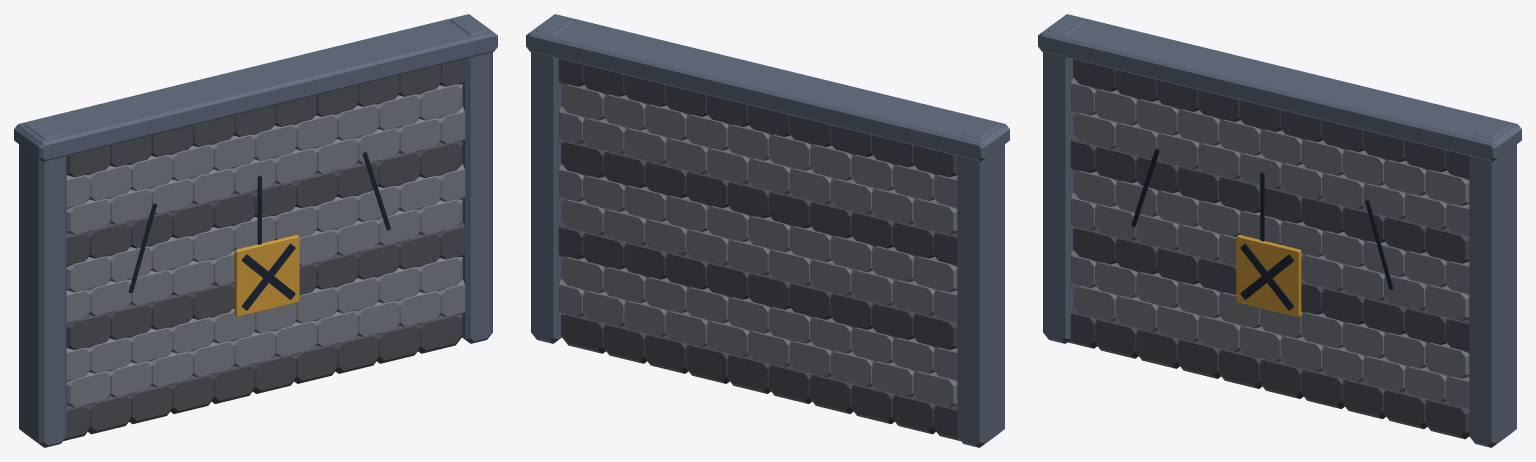
Rendered from shared_wall_destructible.glb.
3 views of the same model, side by side, from view 1: azimuth 30°, elevation 25°; view 2: azimuth 150°, elevation 25°; view 3: azimuth 330°, elevation 25° (orthographic).
Parts seen in each view (by area): view 1: wall_cap, wall_col-1, wall_col1, wall_key, wall_block_0_9, wall_block_0_8, wall_block_0_6, wall_block_0_7, wall_block_0_2, wall_block_0_1, wall_block_0_3, wall_block_0_4 (+92 smaller); view 2: wall_cap, wall_col-1, wall_col1, wall_block_0_9, wall_block_0_8, wall_block_0_6, wall_block_0_7, wall_block_0_2, wall_block_0_1, wall_block_0_3, wall_block_0_4, wall_block_0_5 (+91 smaller); view 3: wall_cap, wall_col1, wall_col-1, wall_key, wall_block_0_9, wall_block_0_3, wall_block_0_1, wall_block_0_2, wall_block_0_8, wall_block_0_5, wall_block_0_7, wall_block_0_6 (+92 smaller).
Boxes of the visible parts, x1,y1,x2,y2 form: wall_cap: [14, 14, 497, 161]; wall_col-1: [19, 120, 66, 447]; wall_col1: [450, 15, 492, 343]; wall_key: [234, 235, 299, 316]; wall_block_0_9: [418, 314, 462, 353]; wall_block_0_8: [376, 324, 420, 363]; wall_block_0_6: [294, 344, 337, 383]; wall_block_0_7: [335, 334, 378, 373]; wall_block_0_2: [129, 385, 172, 424]; wall_block_0_1: [88, 395, 131, 434]; wall_block_0_3: [170, 375, 213, 413]; wall_block_0_4: [211, 365, 255, 403]; wall_cap: [526, 14, 1009, 161]; wall_col-1: [957, 120, 1004, 447]; wall_col1: [531, 15, 573, 343]; wall_block_0_9: [561, 314, 605, 353]; wall_block_0_8: [603, 324, 647, 363]; wall_block_0_6: [686, 344, 729, 383]; wall_block_0_7: [645, 334, 688, 373]; wall_block_0_2: [851, 385, 894, 424]; wall_block_0_1: [892, 395, 935, 434]; wall_block_0_3: [810, 375, 853, 413]; wall_block_0_4: [768, 365, 812, 403]; wall_block_0_5: [727, 355, 770, 393]; wall_cap: [1038, 14, 1521, 161]; wall_col1: [1469, 120, 1516, 447]; wall_col-1: [1043, 15, 1085, 343]; wall_key: [1236, 235, 1301, 316]; wall_block_0_9: [1425, 400, 1469, 439]; wall_block_0_3: [1177, 339, 1221, 378]; wall_block_0_1: [1095, 319, 1138, 358]; wall_block_0_2: [1136, 329, 1179, 368]; wall_block_0_8: [1384, 390, 1427, 429]; wall_block_0_5: [1260, 360, 1303, 398]; wall_block_0_7: [1342, 380, 1385, 419]; wall_block_0_6: [1301, 370, 1344, 408].
Bounding box in the file's own units: 6.67 × 4.31 × 0.7.
